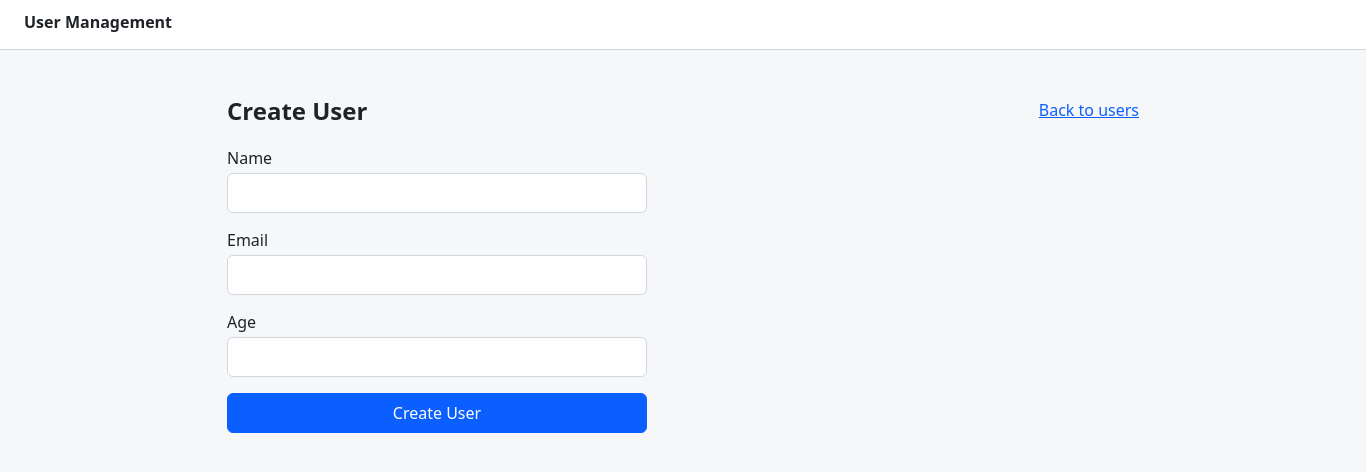
Create user page › submits valid data and shows the new user
Type "  Alice Johnson " into the field labelled "Name" at (437, 193), box [227,173,647,213]
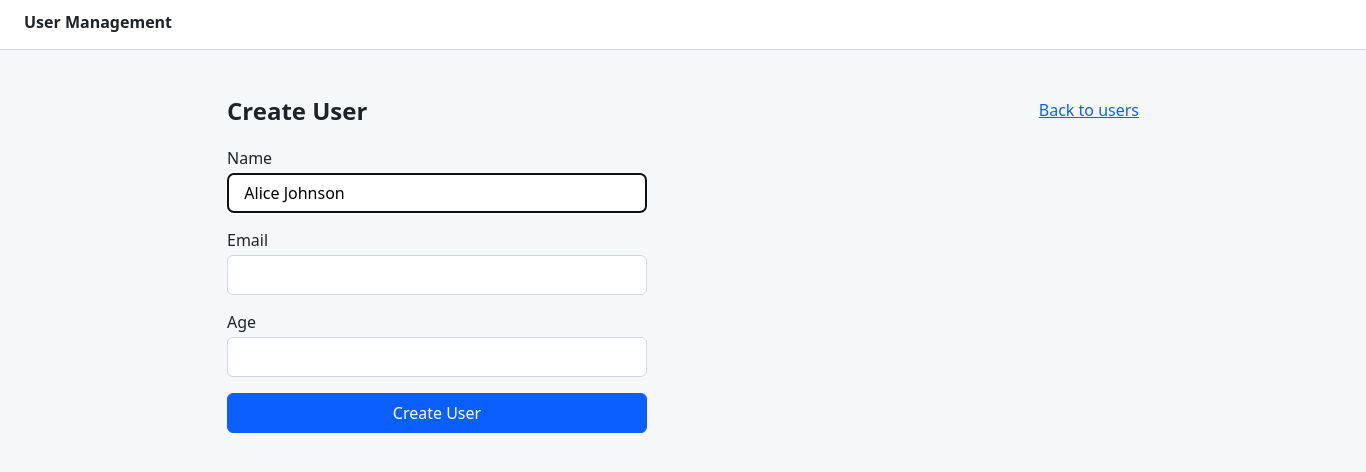
Type "alice@example.com" into the field labelled "Email" at (437, 275), box [227,255,647,295]
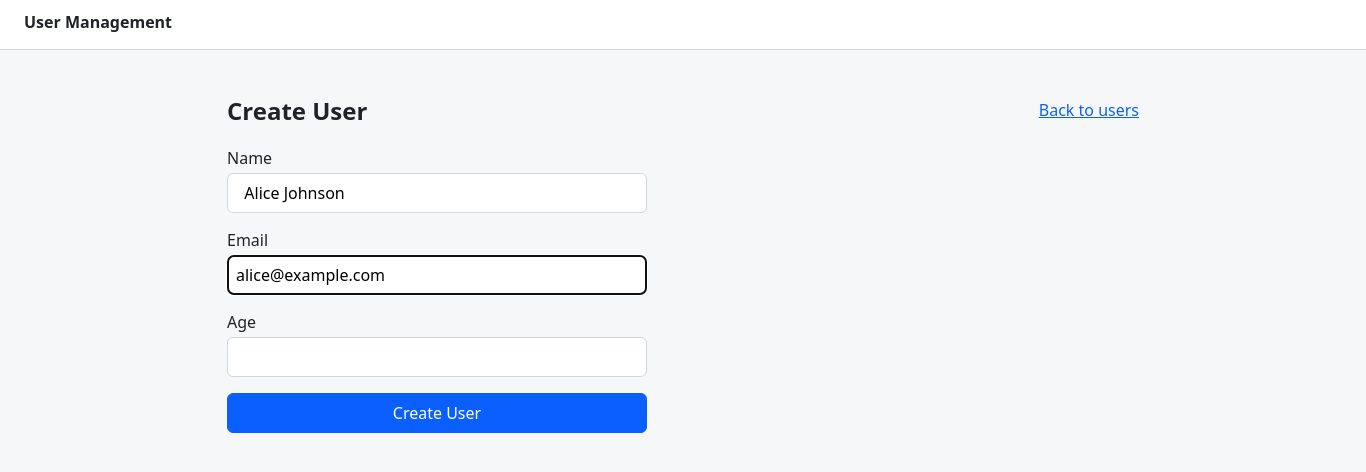
Type "30" into the number field labelled "Age" at (437, 357), box [227,337,647,377]
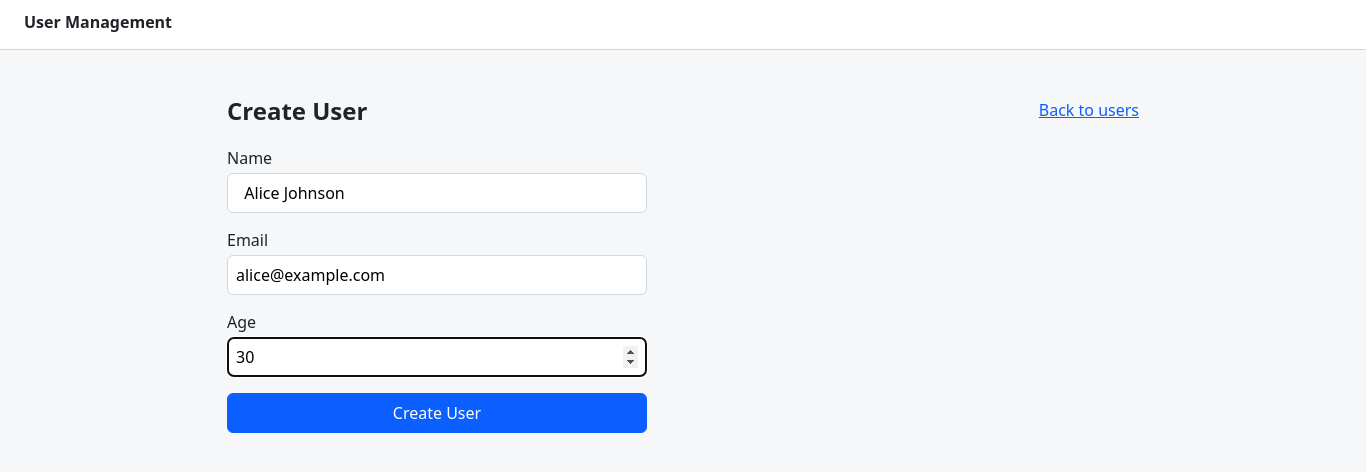
Click the button "Create User" at (437, 413), box [227,393,647,433]
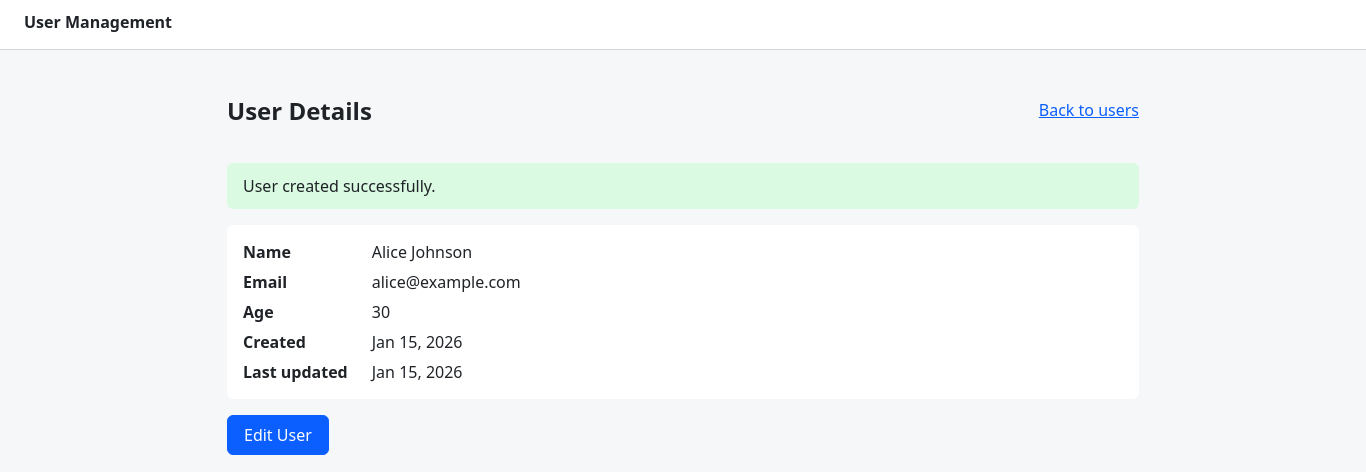
Now the text "User created successfully." is shown, box [227,163,1139,209]
Now the heading "User Details" is shown, box [227,94,372,127]
